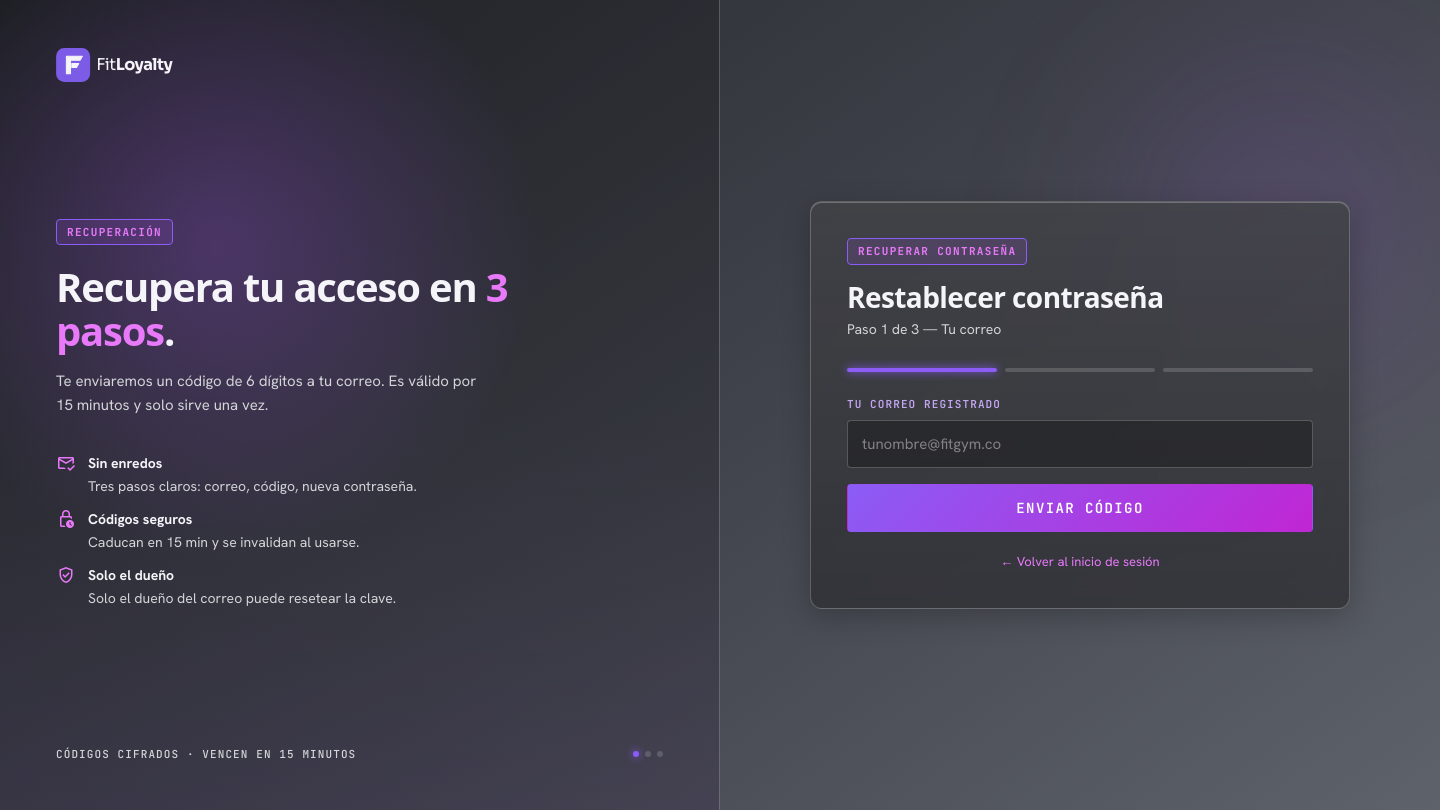
Scenario: ForgotPasswordPage: pedir el codigo › should show the demo code when the backend could not deliver the email
Type "ana@gym.co" into the field labelled "Tu correo registrado" at [1080, 444], box [847, 420, 1313, 468]
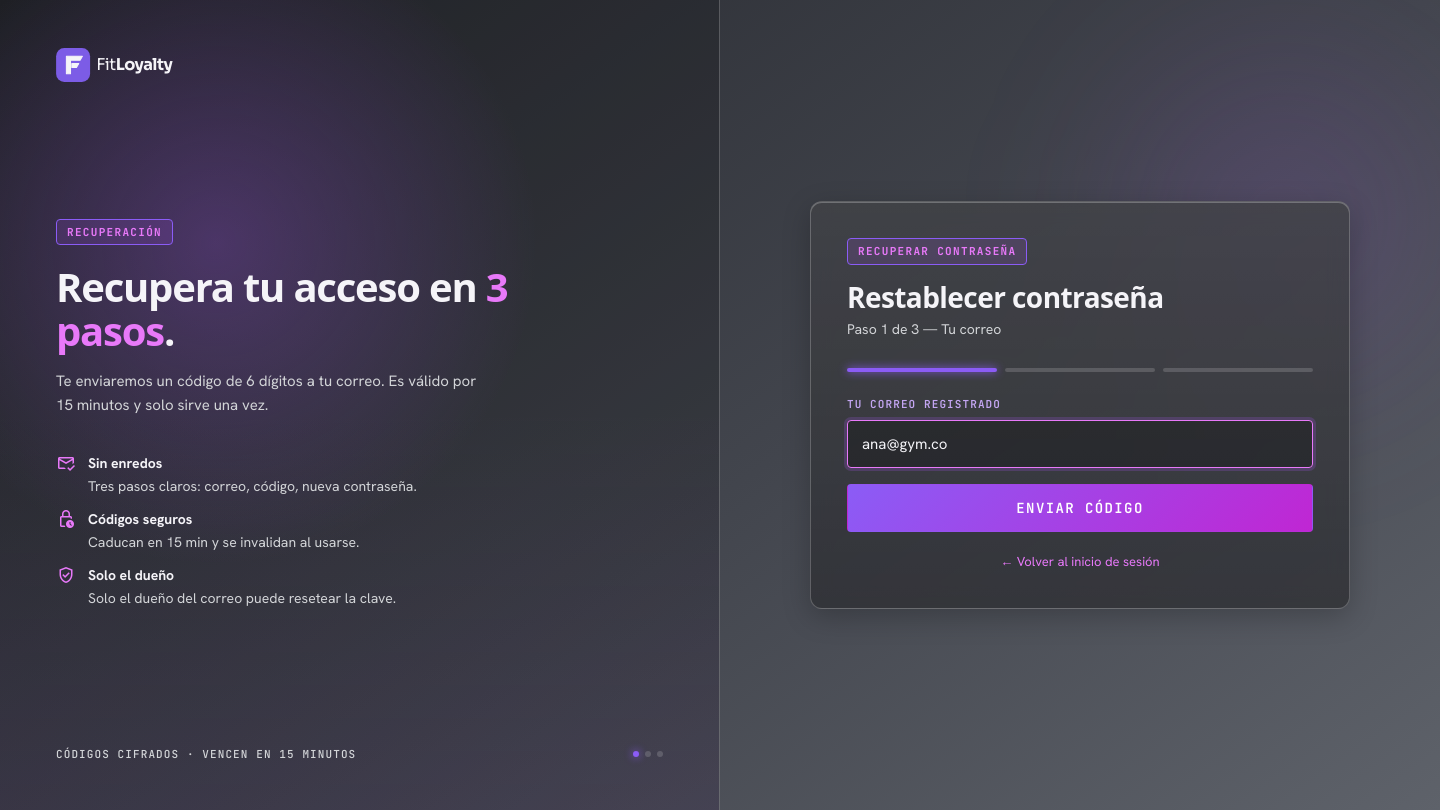
Click the button "Enviar código" at [1080, 508], box [847, 484, 1313, 532]
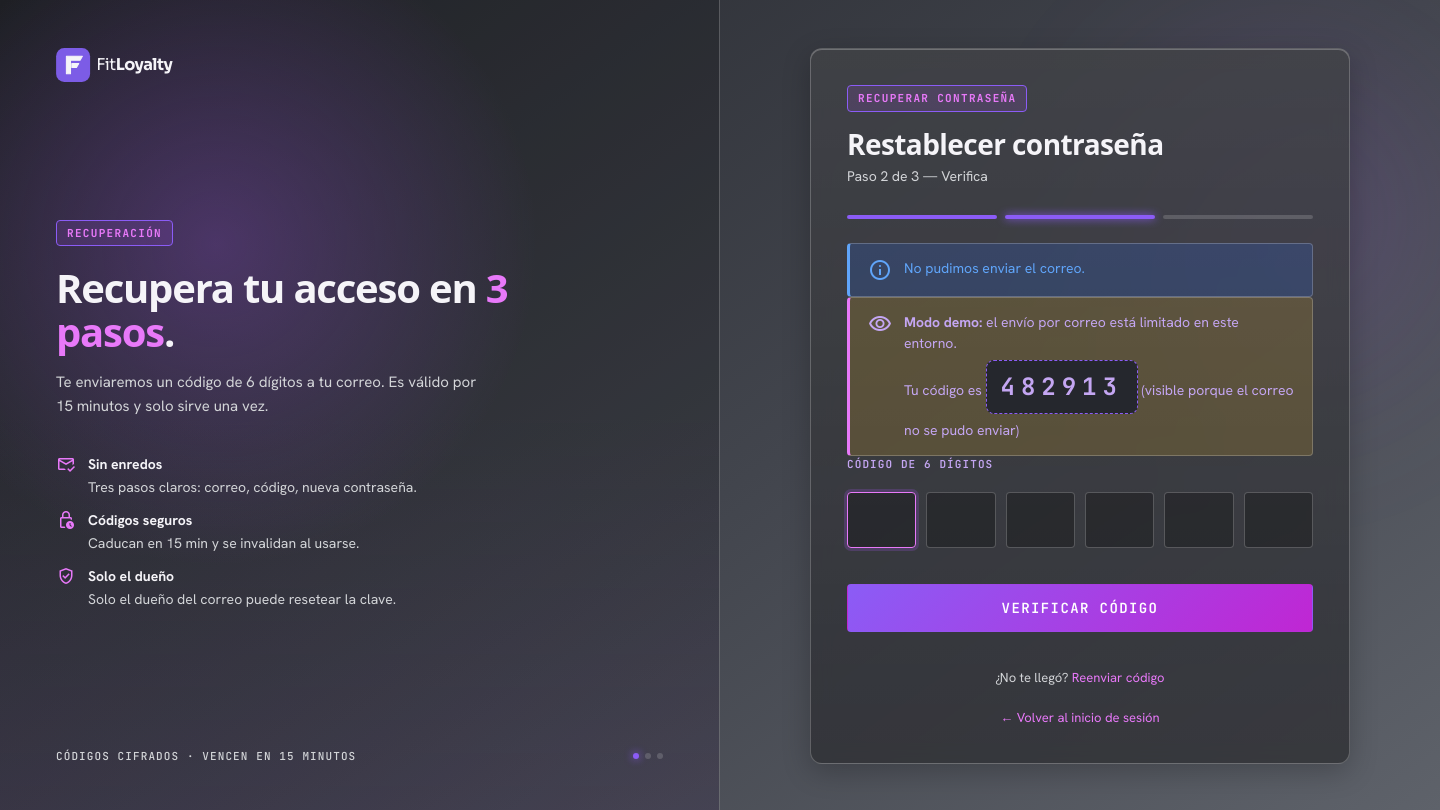
Check: the text "Paso 2 de 3 — Verifica" is shown, box [847, 167, 988, 185]
Check: the message that starts with "Modo demo:" shows "Tu código es 482913 (visible porque el correo no se pudo enviar)", box [847, 297, 1313, 456]
